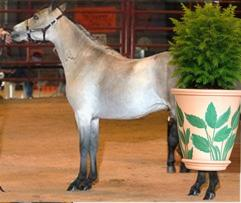horse: (11, 1, 229, 201)
pottedplant: (167, 2, 241, 172)
